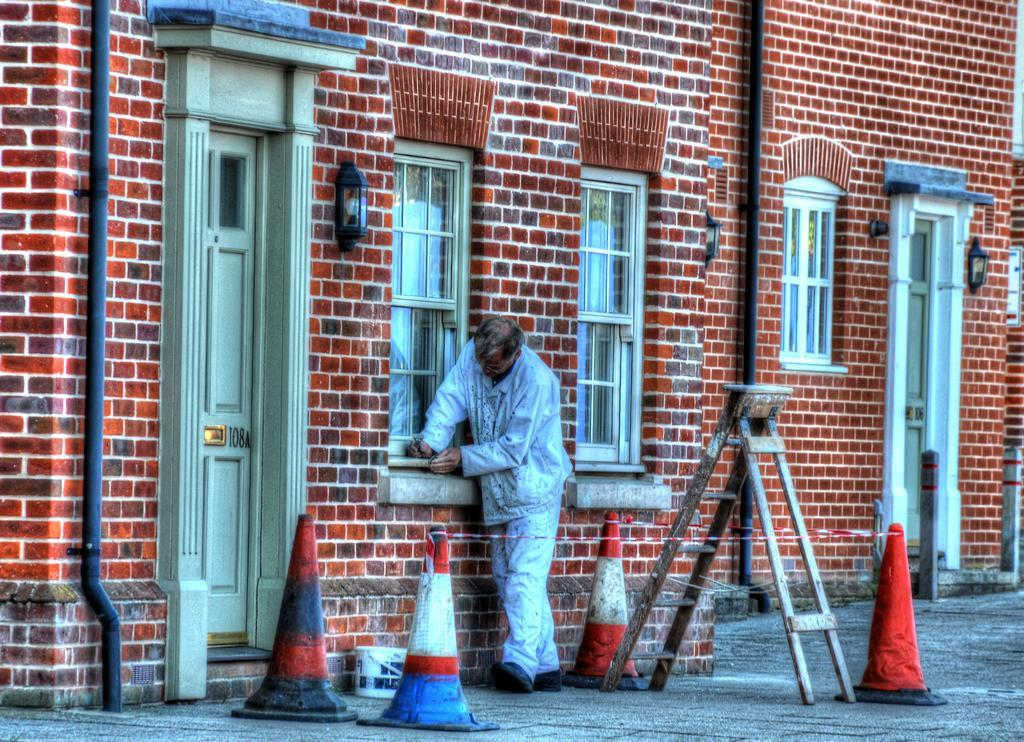door: (214, 139, 262, 641), (908, 230, 934, 531)
